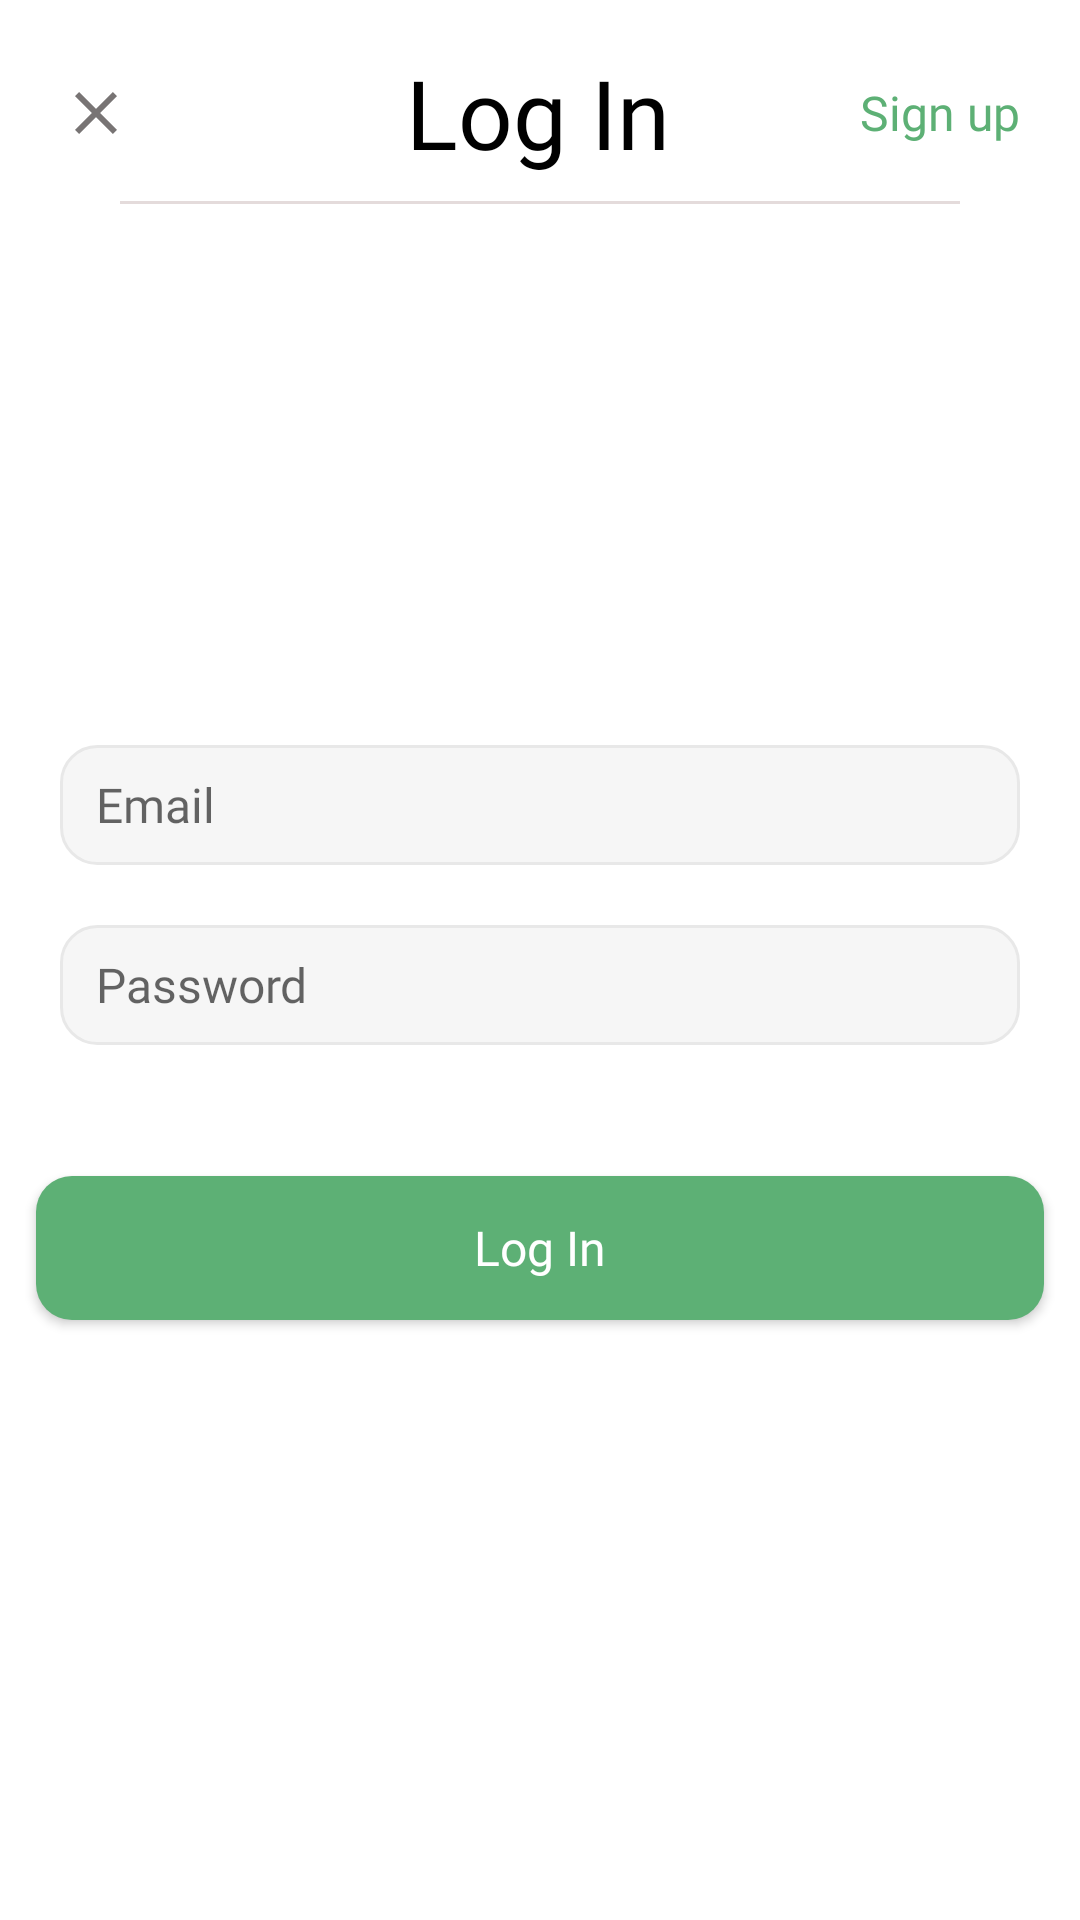

Where to tap for icons on this 1080x1920 app screen, as (x=x, y=y):
close: (x=96, y=113)
